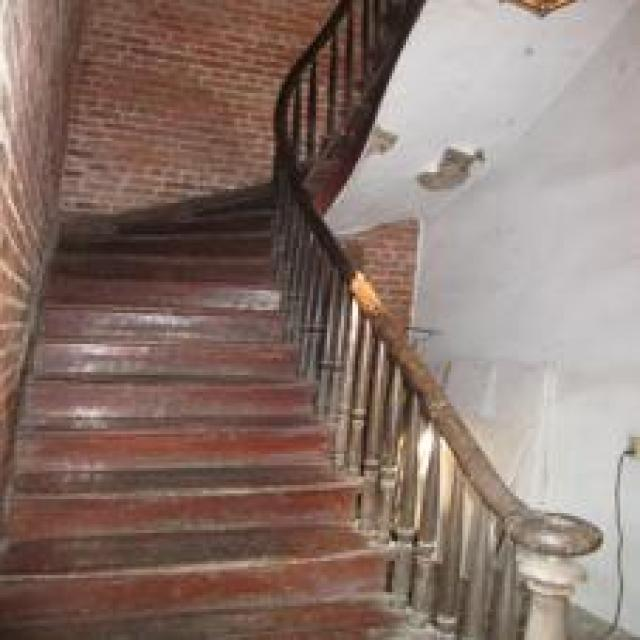stair: (6, 384, 375, 632)
